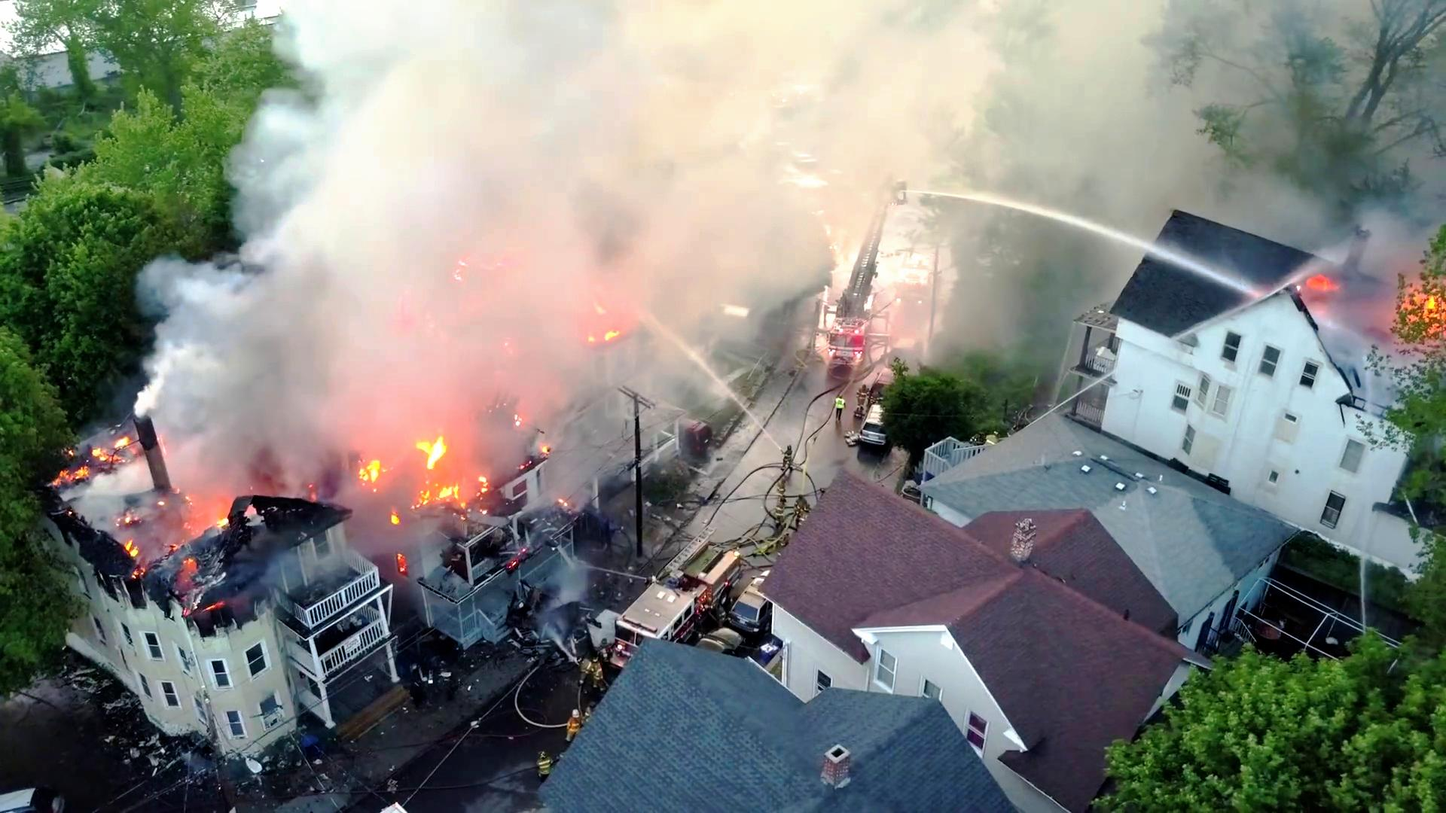smoke: (317, 10, 825, 211), (253, 236, 606, 383)
